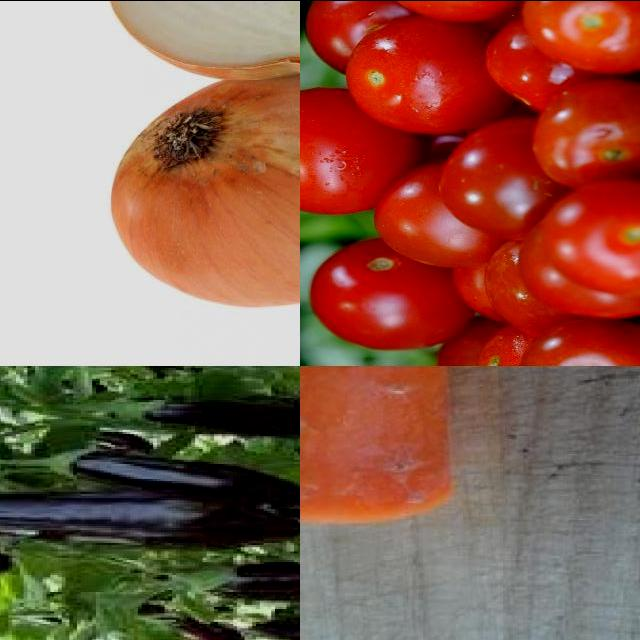carrot: (301, 366, 462, 524)
eggplant: (1, 494, 301, 543), (112, 401, 301, 441), (180, 558, 301, 609)
onion: (105, 76, 301, 312), (105, 1, 301, 133)
tomato: (348, 20, 519, 134), (308, 237, 471, 351), (440, 118, 580, 234), (301, 90, 423, 219), (372, 162, 508, 262), (522, 214, 640, 315), (535, 79, 640, 190), (547, 180, 640, 294), (524, 1, 640, 75), (303, 1, 415, 75), (474, 321, 618, 366), (522, 324, 640, 366)
